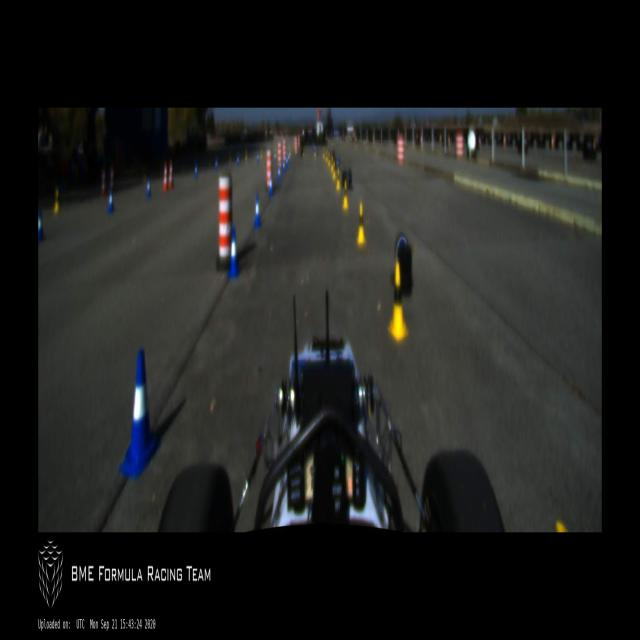blue_cone: (119, 349, 161, 478), (228, 225, 239, 278), (253, 192, 261, 227), (108, 187, 114, 214), (146, 177, 152, 198), (269, 173, 274, 196), (194, 162, 198, 180), (277, 165, 281, 182), (282, 160, 285, 176), (256, 151, 259, 164), (215, 157, 217, 171), (286, 155, 288, 168), (274, 150, 276, 163), (237, 155, 239, 166)
large_orange_cone: (162, 162, 168, 192), (168, 161, 174, 189), (100, 168, 106, 195), (109, 166, 114, 194)
yellow_cone: (387, 261, 409, 342), (356, 201, 366, 245), (342, 179, 349, 210), (52, 187, 59, 214), (335, 167, 341, 191), (332, 160, 336, 180), (330, 156, 333, 172), (328, 152, 330, 166), (314, 146, 316, 159), (325, 150, 327, 162), (303, 147, 305, 157)
